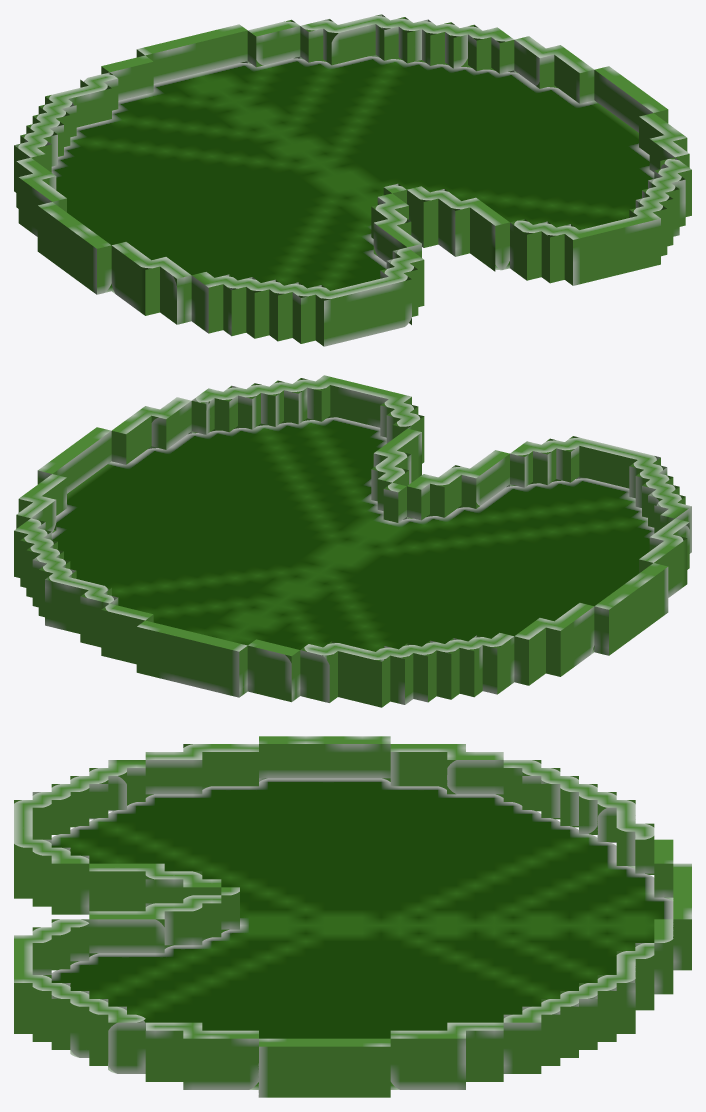
File: VitRegia.fbx
3 renders of one model, top to bottom at view 1: azimuth 30°, elevation 25°; view 2: azimuth 150°, elevation 25°; view 3: azimuth 270°, elevation 25°, orthographic. The views are drawn at different scales.
Parts seen in each view (by area): view 1: VitRegia.001; view 2: VitRegia.001; view 3: VitRegia.001.
Part boxes in pixels (left/top/right/bottom): VitRegia.001: left=14, top=14, right=691, bottom=346; VitRegia.001: left=14, top=375, right=691, bottom=707; VitRegia.001: left=14, top=736, right=691, bottom=1097.
Size of the model in its own units: 3.9 by 0.3 by 3.6.
1 material, 1 textured.
